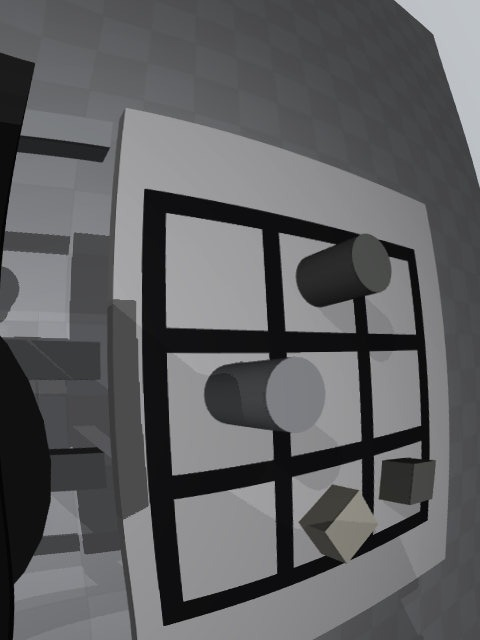can: (204, 357, 325, 433)
cube: (378, 458, 436, 505)
cylinder: (296, 234, 392, 308)
foam: (299, 485, 378, 564)
